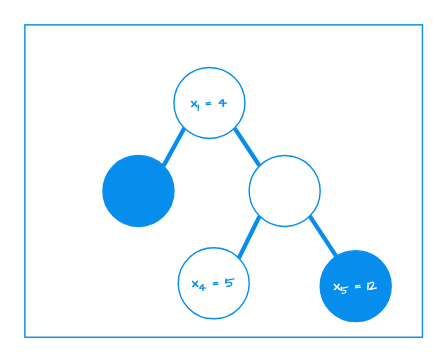
This 447x362 diagram has some shape labels left out. The centre of each missing label's shape, as x and y in pixels:
"x 2 = 7" belongs at (x=138, y=190).
"x 3 = 2" belongs at (x=284, y=190).
